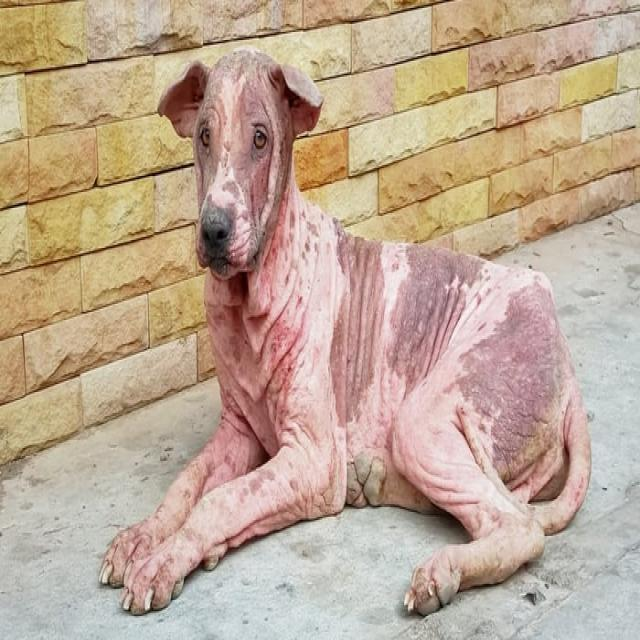mange: (332, 246, 470, 406), (438, 286, 554, 432), (268, 212, 360, 370), (216, 278, 308, 428), (323, 370, 417, 494), (194, 438, 288, 525), (416, 393, 486, 498), (243, 168, 282, 235)
